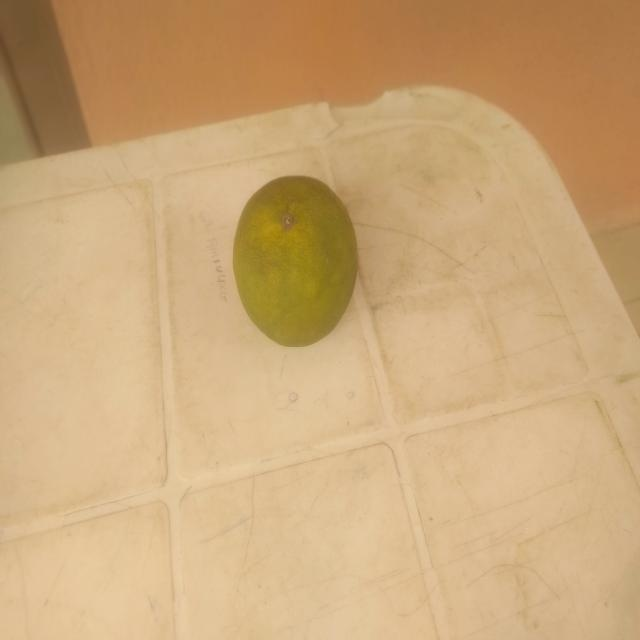agrume: (220, 162, 371, 374)
